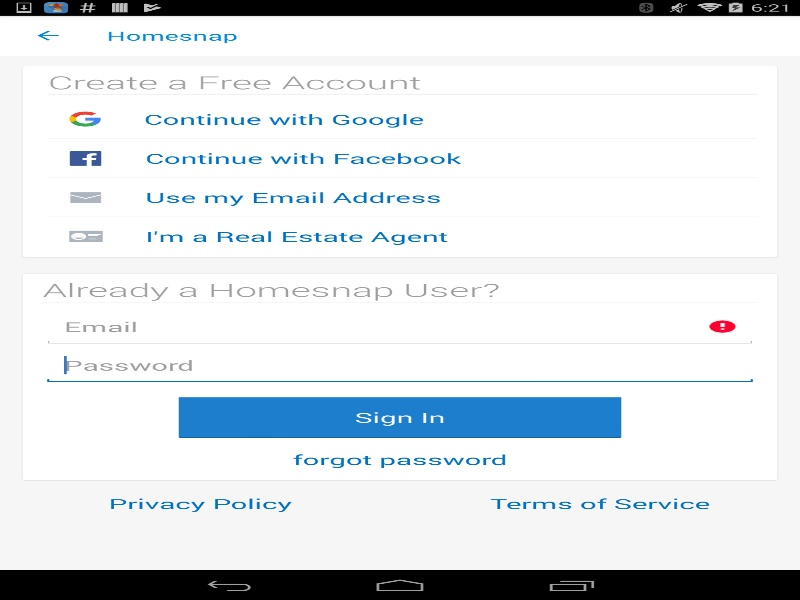Button: (42, 440, 757, 478), (48, 100, 757, 138), (48, 139, 757, 177), (48, 178, 757, 216), (48, 217, 757, 255), (173, 394, 626, 440), (10, 486, 389, 521), (410, 486, 789, 521), (10, 15, 85, 55)
Input: (42, 345, 757, 384), (42, 307, 757, 345)
